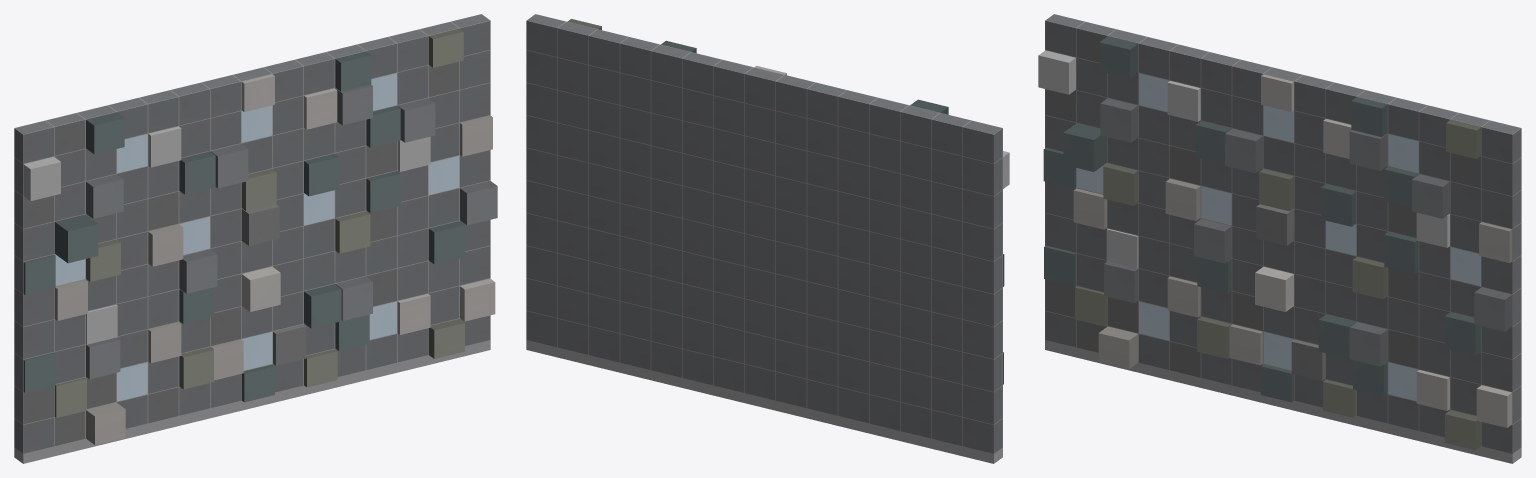
File: MOb_Booth_001_WL_a_15x10.fbx
3 views of the same model, side by side, from view 1: azimuth 30°, elevation 25°; view 2: azimuth 150°, elevation 25°; view 3: azimuth 330°, elevation 25° (orthographic).
Visible parts, largest first — view 1: MOb_Booth_001_WL_a_15x10; view 2: MOb_Booth_001_WL_a_15x10; view 3: MOb_Booth_001_WL_a_15x10.
Boxes of the visible parts, box(x1,y1,x2,y2) form: MOb_Booth_001_WL_a_15x10: box(14, 14, 497, 463); MOb_Booth_001_WL_a_15x10: box(526, 14, 1009, 463); MOb_Booth_001_WL_a_15x10: box(1038, 14, 1521, 463).
Size of the model in its own units: 15 by 10.1 by 1.23.
